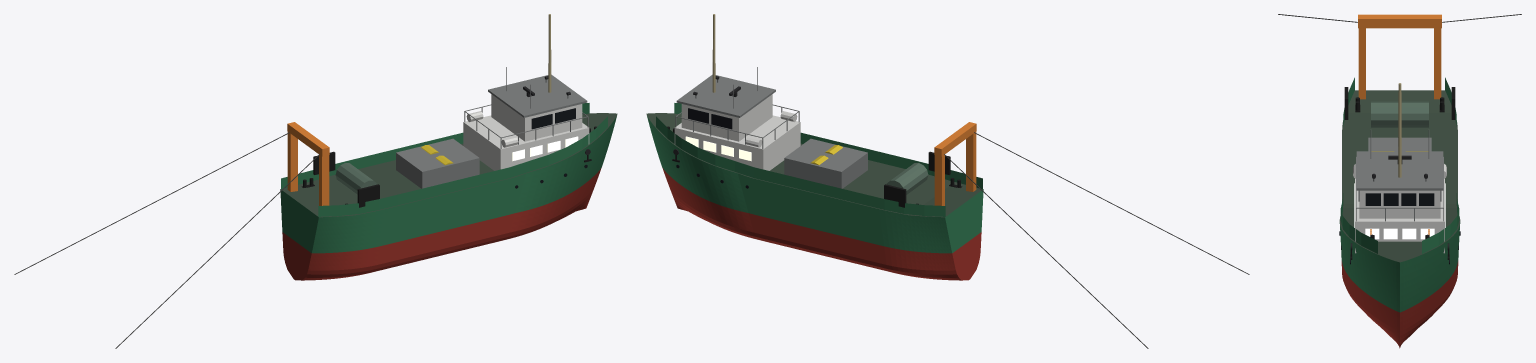
The model's file is trawler30.glb.
The picture shows the model from 3 angles, left to right: view 1: azimuth 30°, elevation 25°; view 2: azimuth 150°, elevation 25°; view 3: azimuth 270°, elevation 25°; orthographic projection. The views are drawn at different scales.
Parts seen in each view (by area): view 1: trawler30; view 2: trawler30; view 3: trawler30.
Part boxes in pixels (<box>): trawler30: <box>14,14,617,348</box>; trawler30: <box>646,14,1249,348</box>; trawler30: <box>1278,14,1521,348</box>.
Size of the model in its own units: 53.02 by 18.6 by 16.85.
